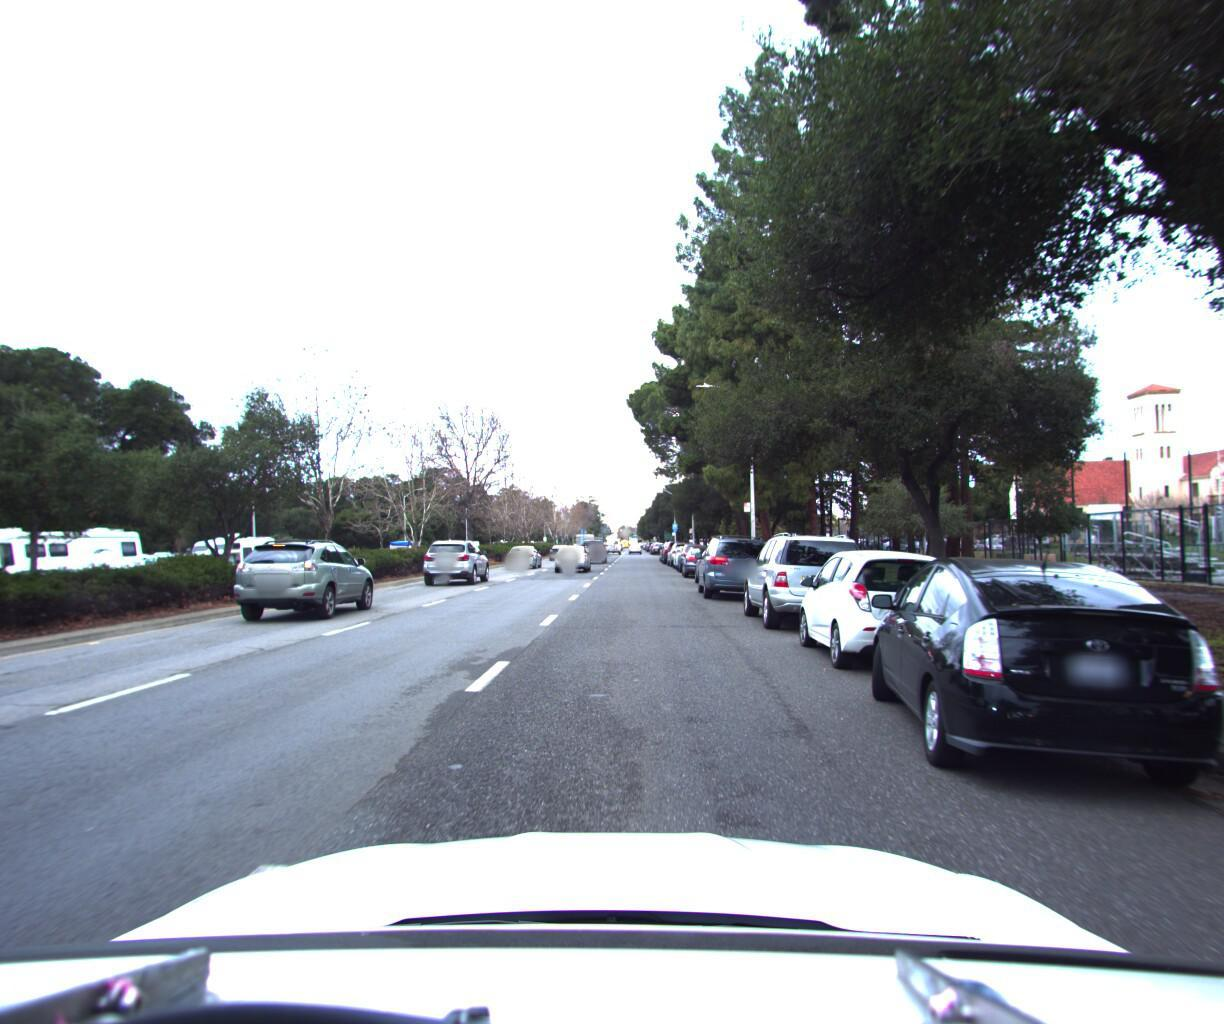car: (854, 543, 1224, 827), (786, 540, 988, 681), (735, 523, 881, 633), (225, 531, 381, 621), (692, 528, 784, 601), (421, 535, 494, 583), (680, 538, 727, 575), (675, 536, 714, 569), (552, 539, 594, 569), (506, 541, 542, 567), (578, 531, 607, 559)
other_vehicle: (182, 528, 287, 581)
